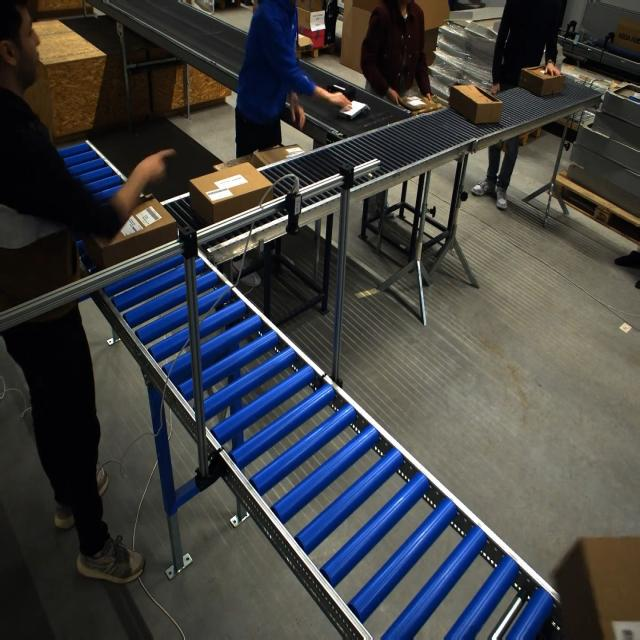box: (80, 195, 176, 271), (189, 162, 273, 227), (447, 83, 502, 124), (518, 65, 567, 98)
